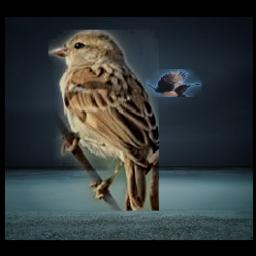Crow: (145, 69, 202, 97)
Sparrow: (48, 31, 159, 211)
